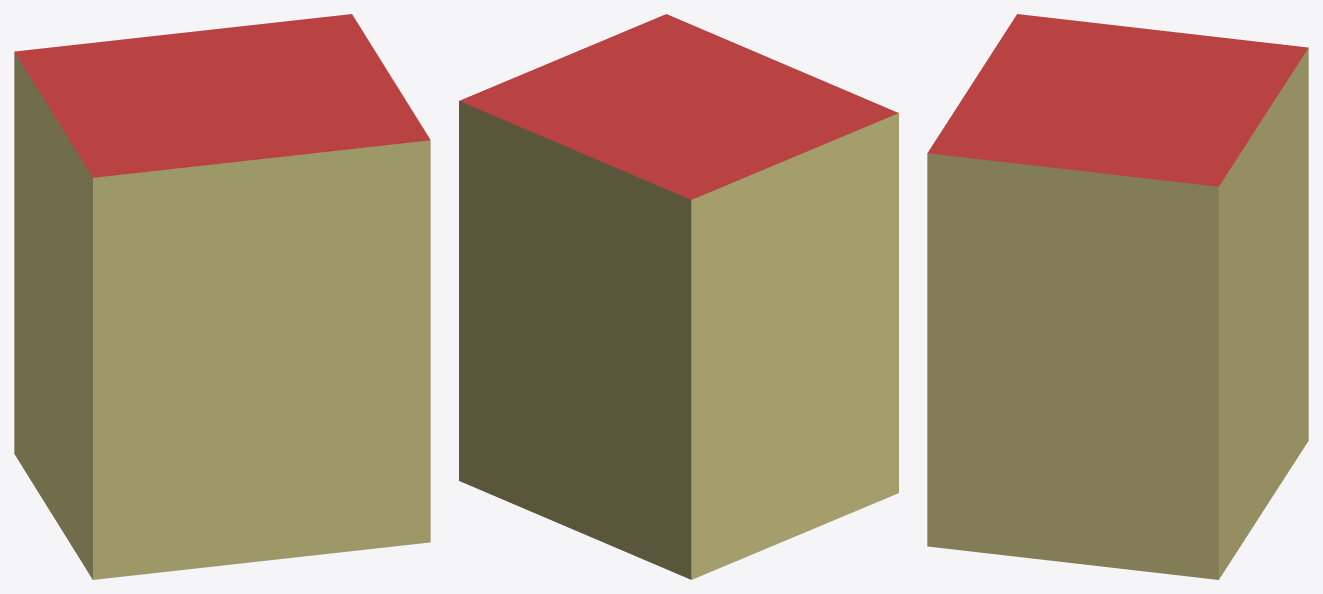
The picture shows the model from 3 angles, left to right: view 1: azimuth 30°, elevation 25°; view 2: azimuth 150°, elevation 25°; view 3: azimuth 270°, elevation 25°; orthographic projection. The views are drawn at different scales.
Bounding box in the file's own units: 4.07 × 3.8 × 4.32.
